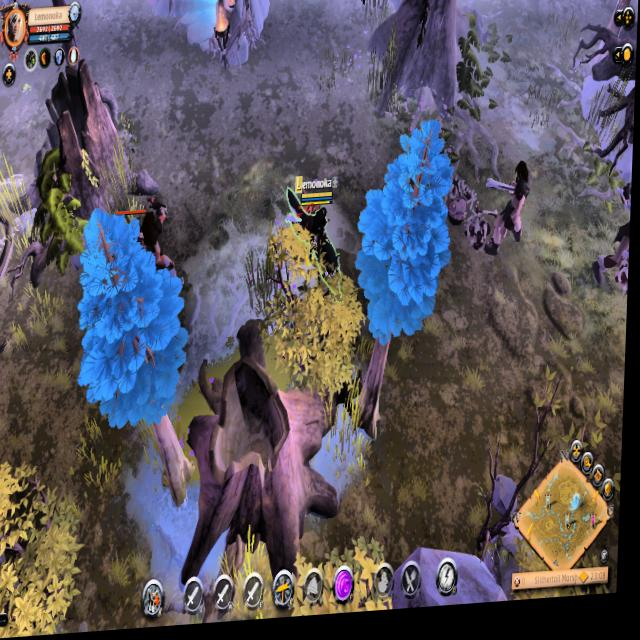wood tier 4: (74, 205, 195, 437), (355, 115, 461, 366)
